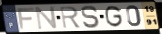0: (126, 5, 142, 28)
F: (16, 7, 35, 30)
G: (105, 5, 124, 28)
N: (35, 6, 59, 30)
R: (59, 5, 82, 29)
S: (80, 5, 102, 29)
